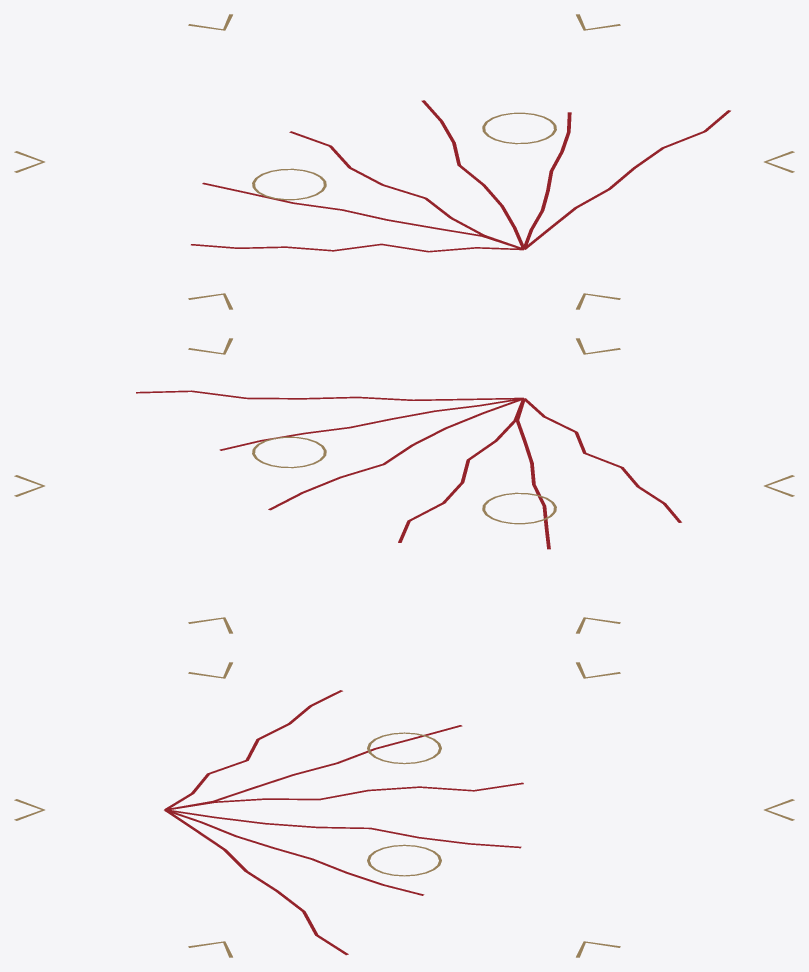
Rendered from arena_trono_energia.fbx.
3 renders of one model, top to bottom at view 1: azimuth 30°, elevation 25°; view 2: azimuth 150°, elevation 25°; view 3: azimuth 270°, elevation 25°, orthographic.
Parts seen in each view (by area): view 1: arena_trono_energia; view 2: arena_trono_energia; view 3: arena_trono_energia.
Part boxes in pixels (x1,y1,x2,y2): arena_trono_energia: (14,14,794,309); arena_trono_energia: (14,338,794,633); arena_trono_energia: (14,662,794,957).
Size of the model in its own units: 36.85 by 0.32 by 41.14.
